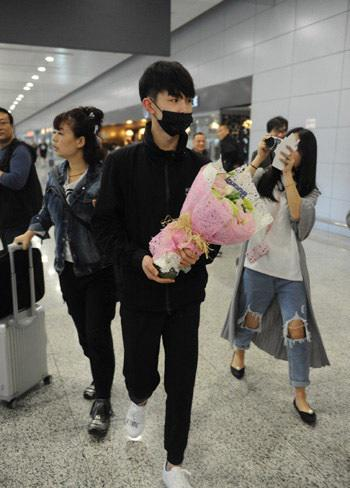NONE: (50, 128, 78, 161), (1, 110, 14, 143), (196, 138, 207, 152)
WRONG: (157, 88, 197, 134)
